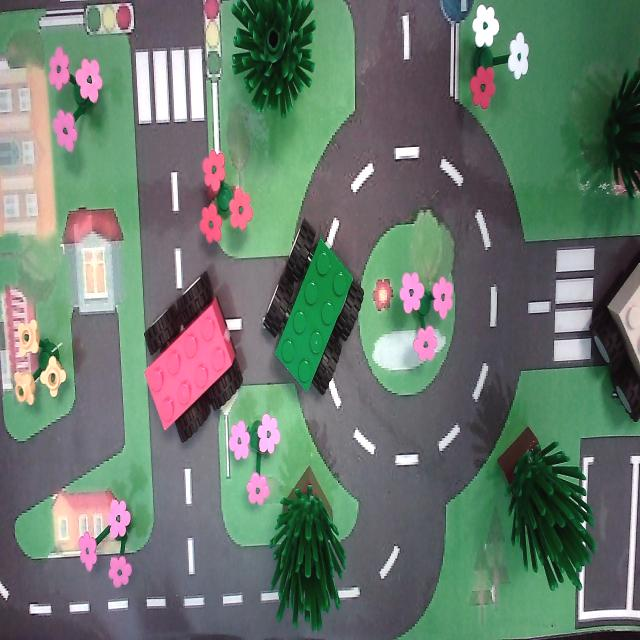Car: (140, 267, 248, 451), (256, 223, 364, 399), (587, 242, 640, 422)
Flower: (39, 39, 109, 158), (464, 1, 530, 119), (397, 259, 457, 377), (10, 308, 72, 418), (76, 490, 142, 590), (192, 150, 254, 248), (225, 412, 284, 513)
Tree: (496, 406, 596, 598), (262, 464, 350, 636), (229, 0, 319, 122), (598, 59, 640, 212)
